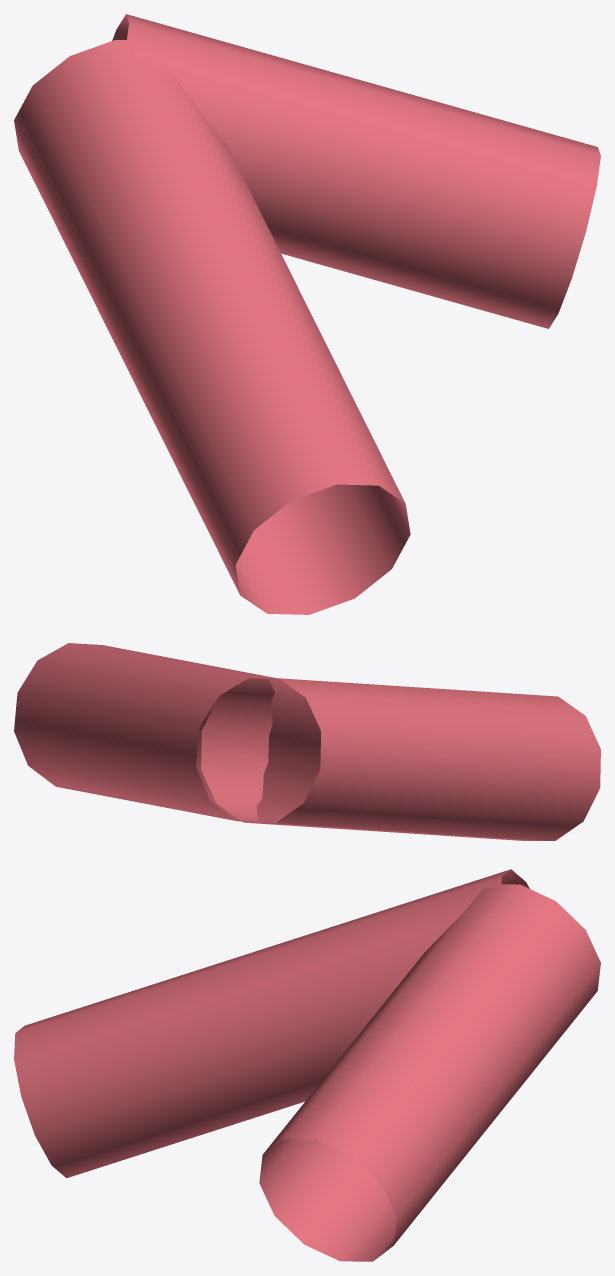
The picture shows the model from 3 angles, top to bottom: view 1: azimuth 30°, elevation 25°; view 2: azimuth 150°, elevation 25°; view 3: azimuth 270°, elevation 25°; orthographic projection. The views are drawn at different scales.
Parts seen in each view (by area): view 1: ZA_7e6949ad1925d5a4; view 2: ZA_7e6949ad1925d5a4; view 3: ZA_7e6949ad1925d5a4.
Boxes of the visible parts, x1,y1,x2,y2 form: ZA_7e6949ad1925d5a4: (14, 14, 600, 614); ZA_7e6949ad1925d5a4: (14, 643, 600, 840); ZA_7e6949ad1925d5a4: (14, 869, 600, 1261).
Size of the model in its own units: 0.0233 by 0.0155 by 0.0257.
